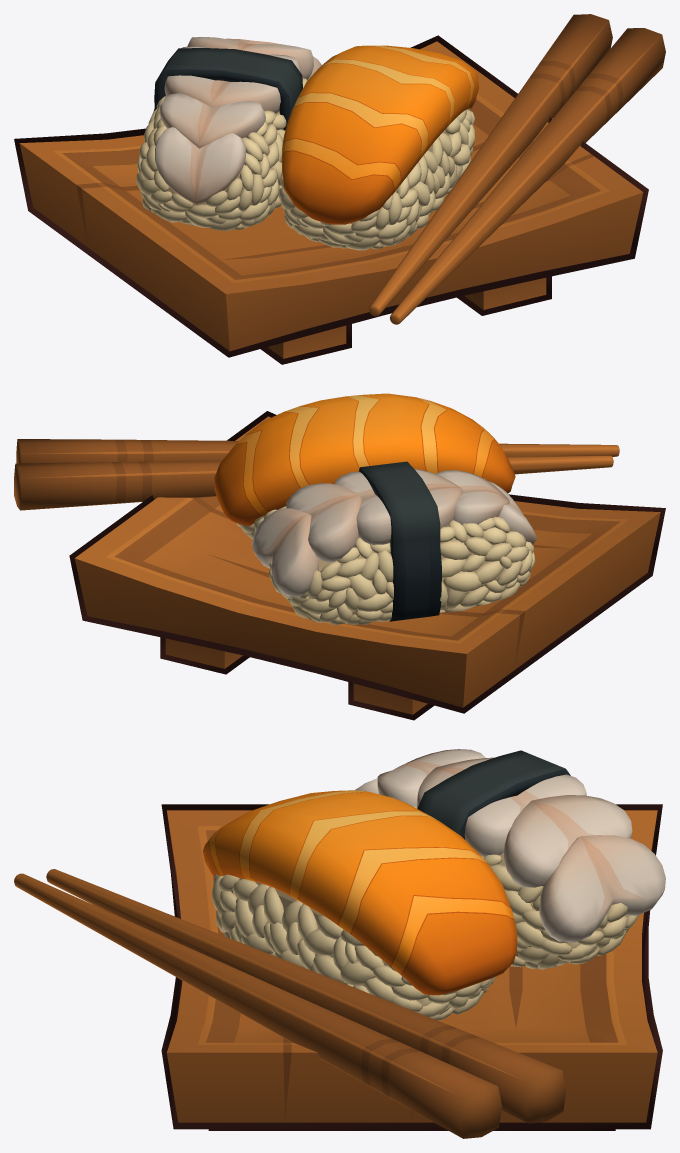
File: tablita-sushi.glb
The picture shows the model from 3 angles, top to bottom: view 1: azimuth 30°, elevation 25°; view 2: azimuth 150°, elevation 25°; view 3: azimuth 270°, elevation 25°; orthographic projection. The views are drawn at different scales.
Parts seen in each view (by area): view 1: Table_Short.001, S_nigiri_1.002, S_nigiri_6.002, Plane.002, Plane.001; view 2: Table_Short.001, S_nigiri_6.002, S_nigiri_1.002, Plane.001, Plane.002; view 3: Table_Short.001, S_nigiri_1.002, S_nigiri_6.002, Plane.002, Plane.001.
Part boxes in pixels (x1,y1,x2,y2): Table_Short.001: (14, 35, 648, 364); S_nigiri_1.002: (278, 45, 478, 250); S_nigiri_6.002: (136, 37, 321, 230); Plane.002: (390, 28, 665, 324); Plane.001: (369, 14, 612, 316); Table_Short.001: (69, 411, 665, 720); S_nigiri_6.002: (252, 461, 536, 624); S_nigiri_1.002: (214, 393, 515, 539); Plane.001: (14, 455, 613, 510); Plane.002: (16, 439, 619, 463); Table_Short.001: (161, 804, 662, 1130); S_nigiri_1.002: (203, 790, 517, 1020); S_nigiri_6.002: (355, 749, 665, 969); Plane.002: (14, 873, 501, 1138); Plane.001: (46, 869, 566, 1123).
Bounding box in the file's own units: 10.22 × 3.63 × 8.56.
Materials: 1 (1 with a texture image).
